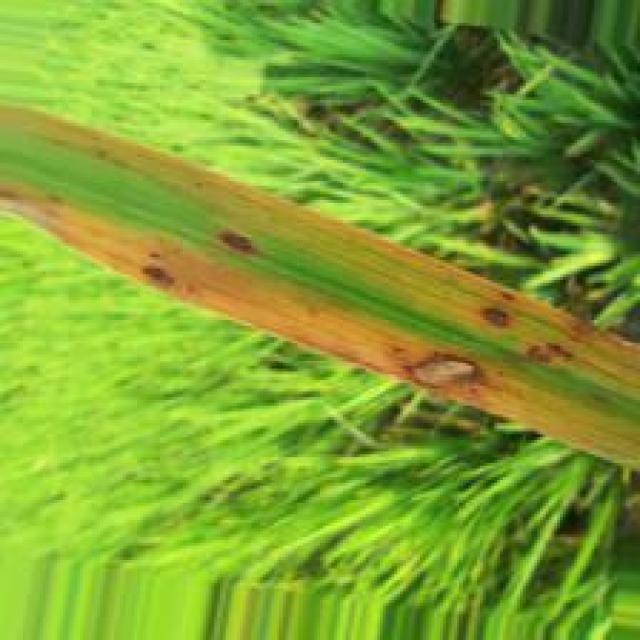Rice Tungro: (396, 353, 496, 389), (132, 257, 179, 291), (208, 229, 262, 256), (479, 299, 513, 330)
